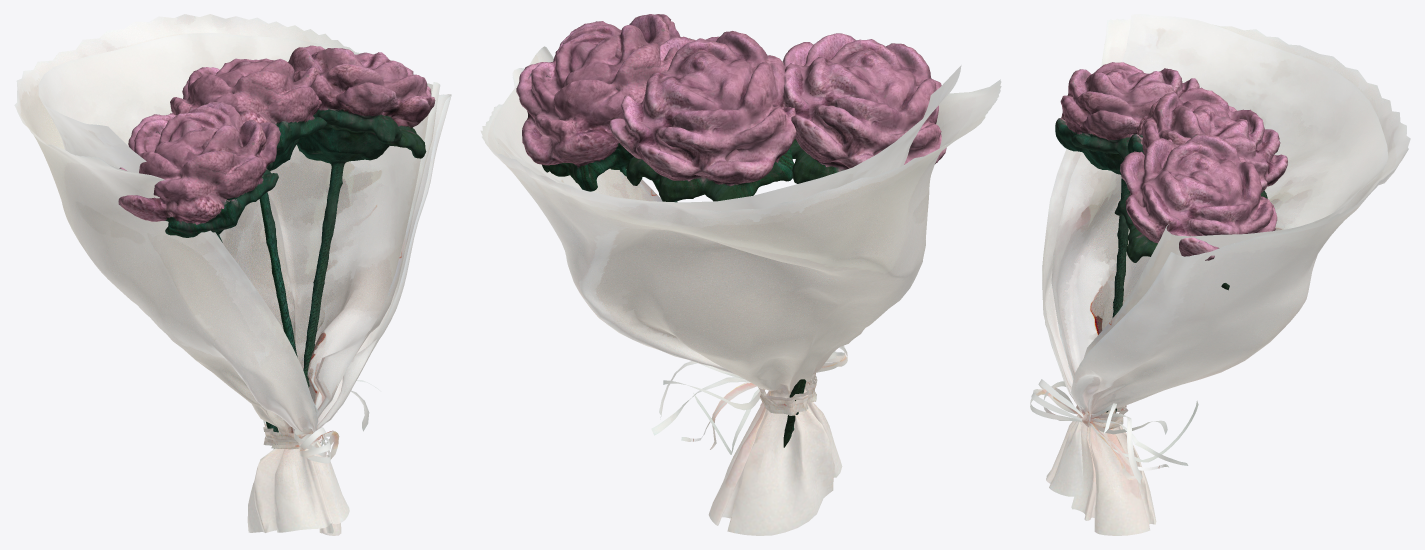
File: rose_bouquet.glb
3 views of the same model, side by side, from view 1: azimuth 30°, elevation 25°; view 2: azimuth 150°, elevation 25°; view 3: azimuth 270°, elevation 25° (orthographic). The views are drawn at different scales.
Visible parts, largest first — view 1: outer, inner, Rose_Petal.001, Rose_Petal.002, Rose_Petal, Rose_Stem.002, Rose_Stem, Rose_Stem.001, ribbon, parcel_knot; view 2: outer, Rose_Petal, Rose_Petal.001, Rose_Petal.002, inner, Rose_Stem, ribbon, Rose_Stem.002, Rose_Stem.001, parcel_knot; view 3: outer, inner, Rose_Petal.002, Rose_Petal, Rose_Petal.001, ribbon, Rose_Stem.001, Rose_Stem.002.
Part boxes in pixels (bbox=[...]): outer: bbox=[14, 14, 451, 535]; inner: bbox=[38, 33, 440, 433]; Rose_Petal.001: bbox=[118, 101, 280, 225]; Rose_Petal.002: bbox=[288, 45, 435, 127]; Rose_Petal: bbox=[169, 58, 321, 124]; Rose_Stem.002: bbox=[296, 109, 426, 387]; Rose_Stem: bbox=[193, 73, 327, 357]; Rose_Stem.001: bbox=[140, 127, 278, 432]; ribbon: bbox=[263, 380, 381, 463]; parcel_knot: bbox=[263, 424, 312, 449]; outer: bbox=[480, 68, 1001, 535]; Rose_Petal: bbox=[609, 31, 796, 186]; Rose_Petal.001: bbox=[782, 33, 946, 170]; Rose_Petal.002: bbox=[516, 14, 680, 167]; inner: bbox=[493, 46, 961, 211]; Rose_Stem: bbox=[626, 64, 794, 201]; ribbon: bbox=[651, 345, 847, 454]; Rose_Stem.002: bbox=[528, 70, 677, 202]; Rose_Stem.001: bbox=[783, 62, 842, 447]; parcel_knot: bbox=[758, 373, 817, 415]; outer: bbox=[1042, 18, 1410, 535]; inner: bbox=[1051, 14, 1388, 380]; Rose_Petal.002: bbox=[1120, 133, 1277, 260]; Rose_Petal: bbox=[1136, 87, 1287, 193]; Rose_Petal.001: bbox=[1060, 62, 1199, 140]; ribbon: bbox=[1030, 379, 1198, 483]; Rose_Stem.001: bbox=[1055, 72, 1188, 412]; Rose_Stem.002: bbox=[1106, 176, 1255, 412].
Size of the model in its own units: 1.8 by 1.89 by 1.55.
Materials: 6 (6 with a texture image).
